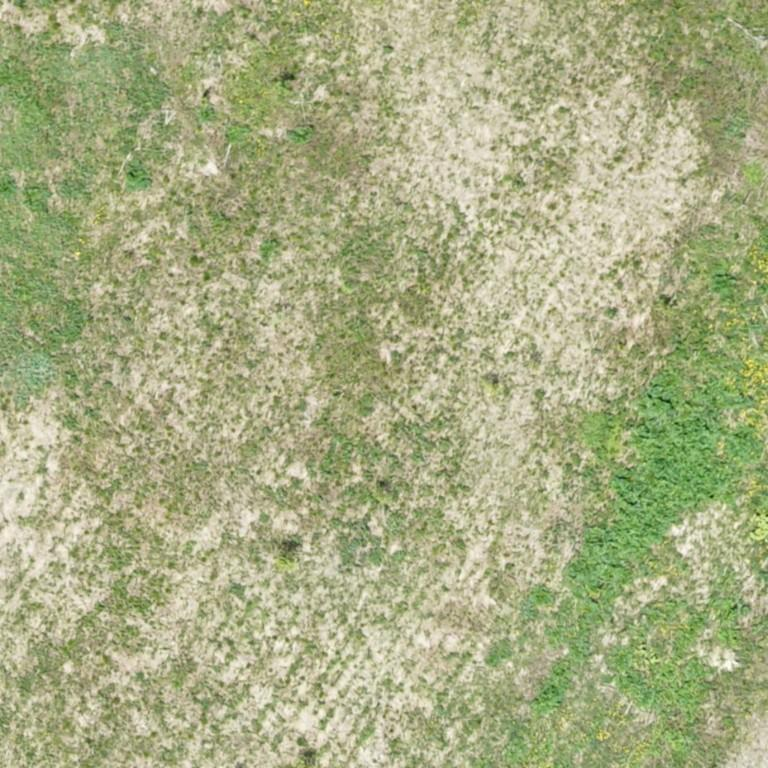hogweed: (564, 372, 761, 654), (712, 270, 735, 305), (125, 159, 149, 189), (286, 127, 311, 142)
